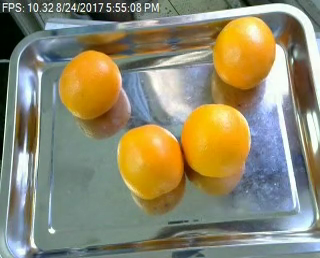Orange: (116, 122, 185, 199), (180, 104, 251, 176), (212, 15, 275, 88), (58, 49, 122, 119)
